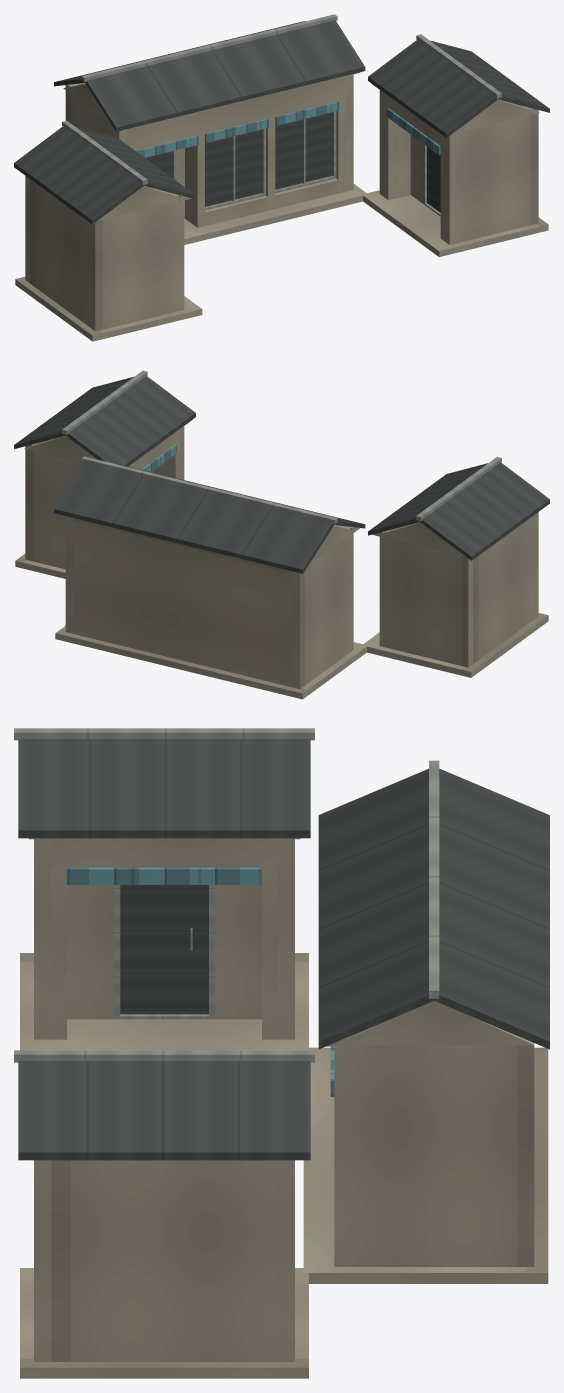
3 views of the same model, one above another, from view 1: azimuth 30°, elevation 25°; view 2: azimuth 150°, elevation 25°; view 3: azimuth 270°, elevation 25° (orthographic). The views are drawn at different scales.
Visible parts, largest first — view 1: lima; view 2: lima; view 3: lima.
Boxes of the visible parts, left/top/right/bottom form: lima: left=14, top=14, right=549, bottom=341; lima: left=14, top=370, right=549, bottom=699; lima: left=14, top=728, right=549, bottom=1378.
Bounding box in the file's own units: 8.6 × 2.85 × 4.68.
1 material, 1 textured.
